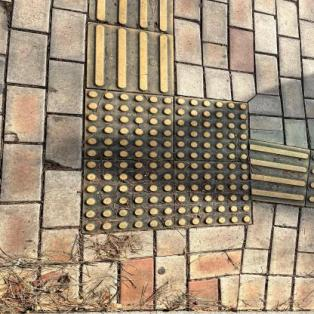Podoctatil: (76, 0, 313, 236)
